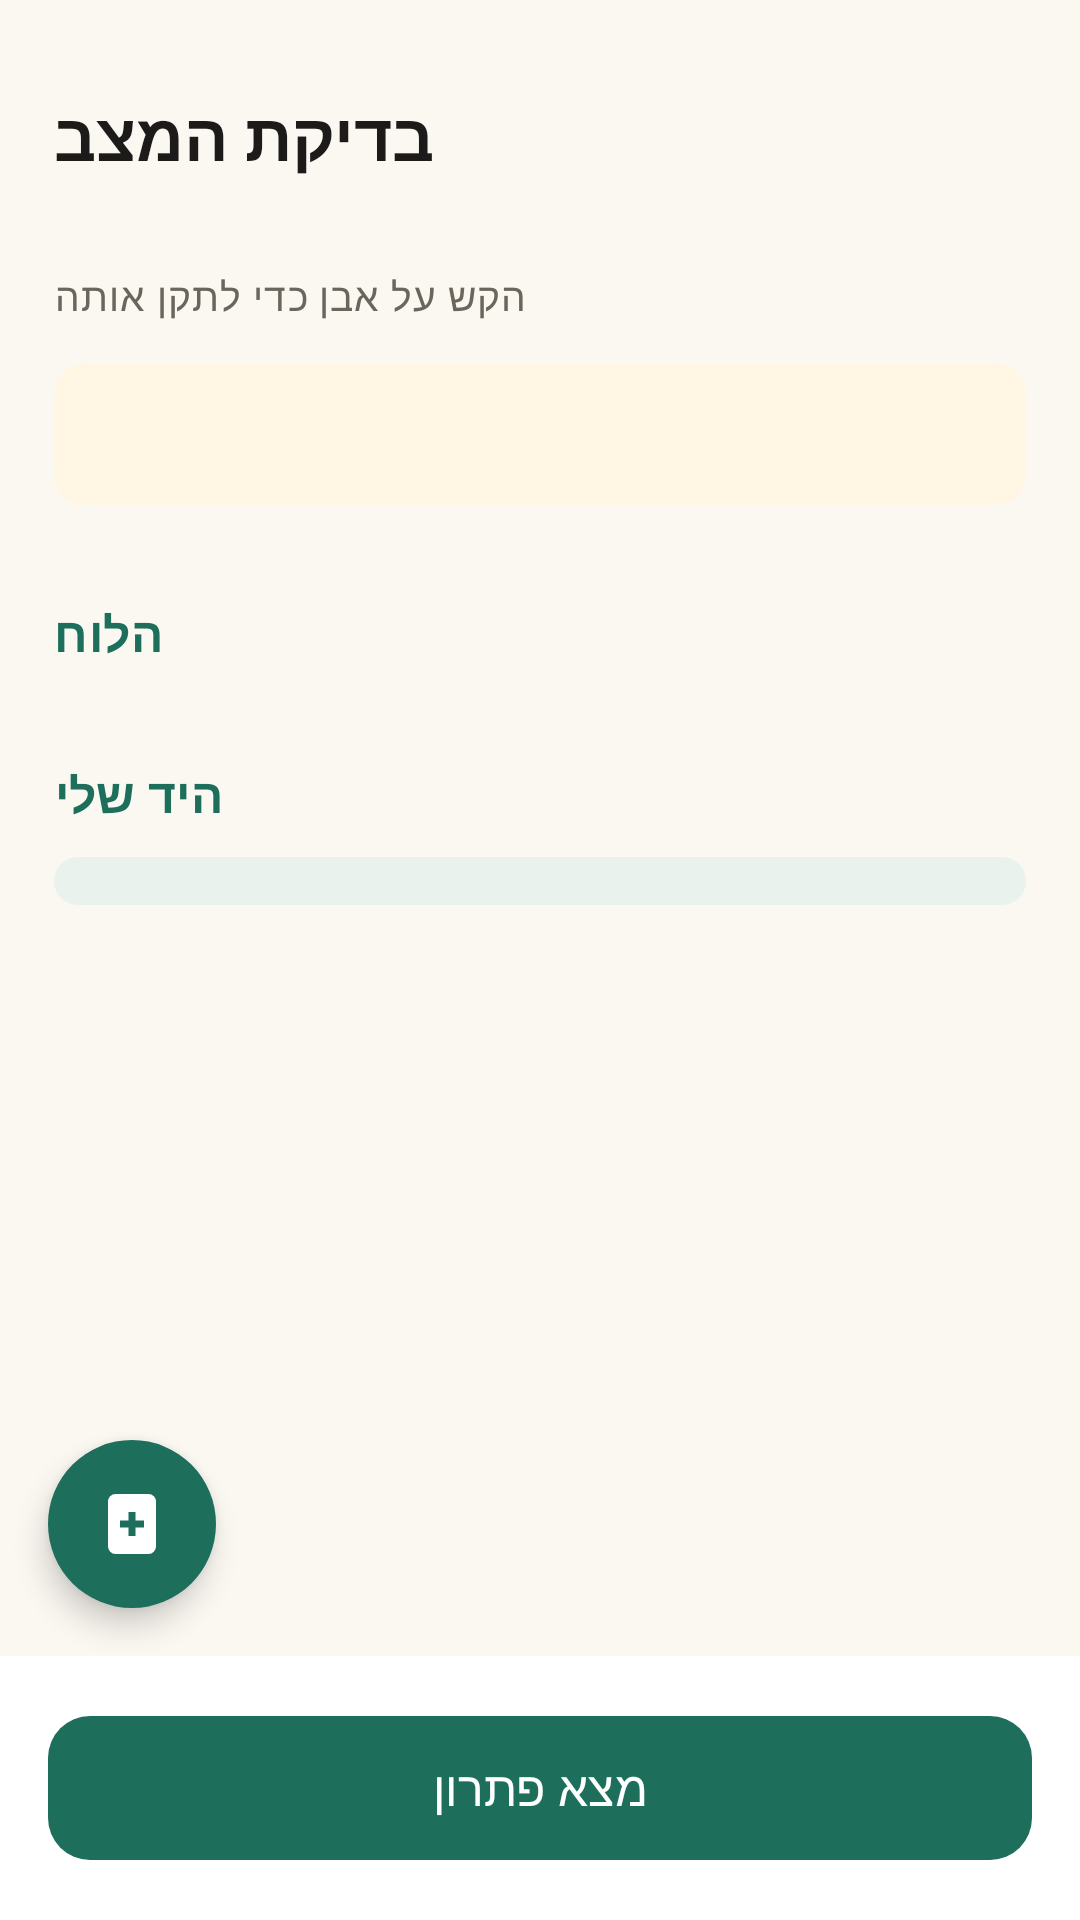

Where to tap for icons on this 1080 × 1920 app screen, as [x,y]:
הוספת אבן: [132,1524]
